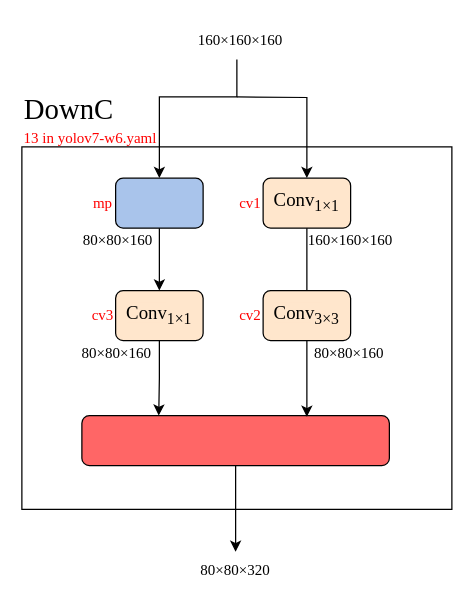
This 474x610 diagram has some shape labels left out. Here are the shapes that lost their labels. From the top down, the centre of each, then its label:
(158,202): MP 2×2
(235,440): Concat
